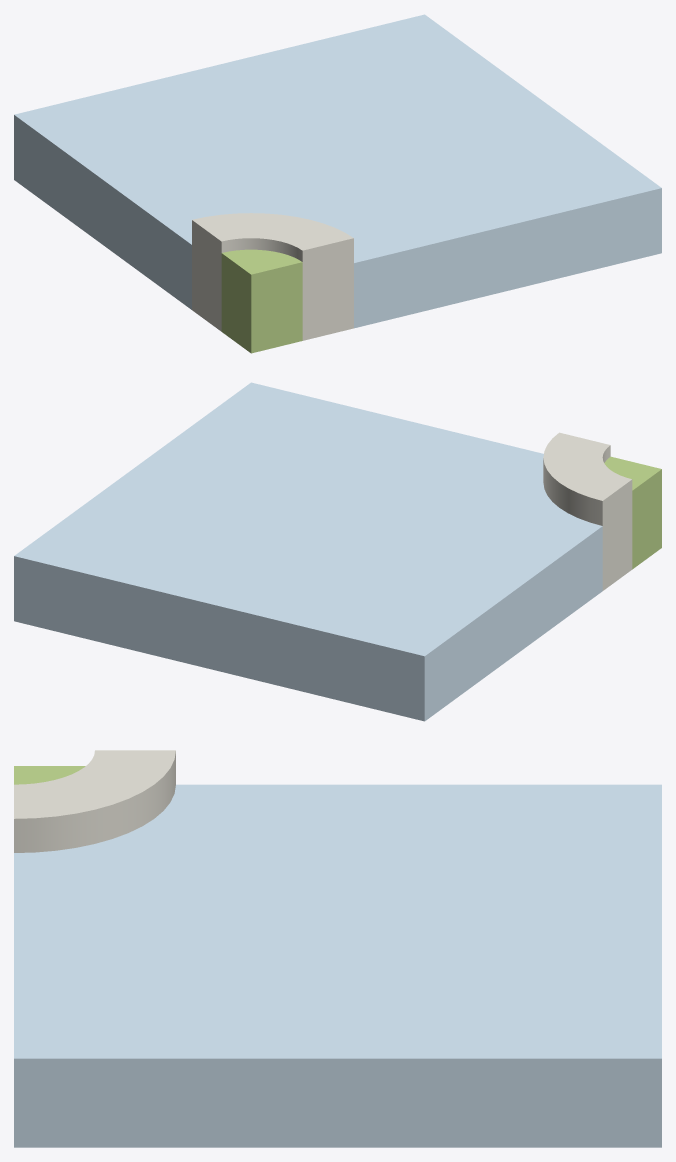
The model's file is road-pack--tile130.glb.
3 renders of one model, top to bottom at view 1: azimuth 30°, elevation 25°; view 2: azimuth 150°, elevation 25°; view 3: azimuth 270°, elevation 25°, orthographic. The views are drawn at different scales.
Parts seen in each view (by area): view 1: tile130; view 2: tile130; view 3: tile130.
Part boxes in pixels (x1,y1,x2,y2): tile130: (14, 14, 661, 353); tile130: (14, 382, 661, 721); tile130: (14, 750, 661, 1147).
Size of the model in its own units: 1 by 0.21 by 1.
